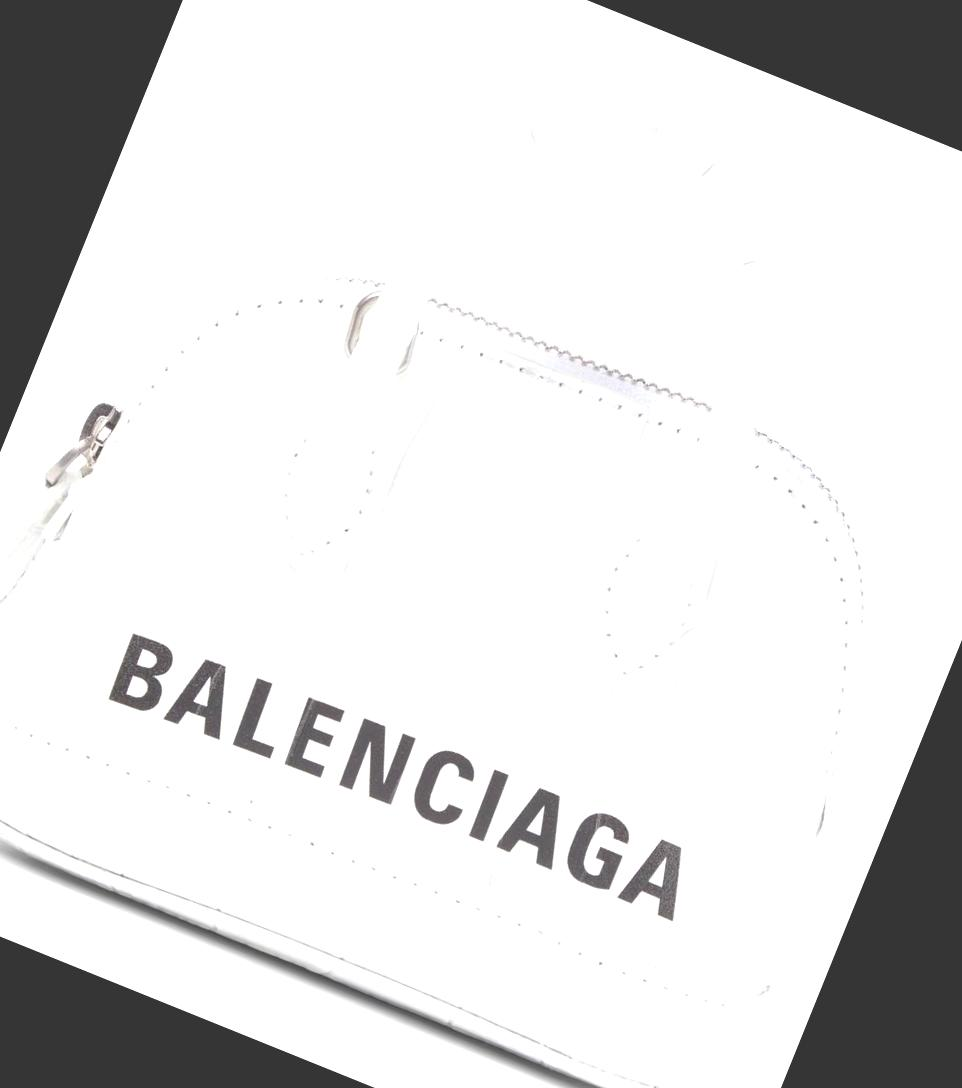BALENCIAGA: (105, 622, 702, 927)
